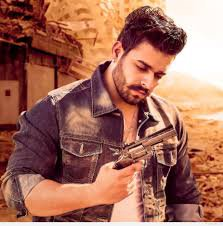noMask: (101, 4, 189, 102)
